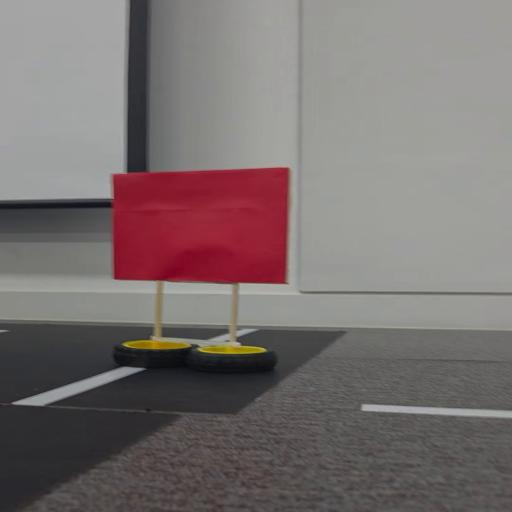Sign_A: (104, 166, 294, 368)
